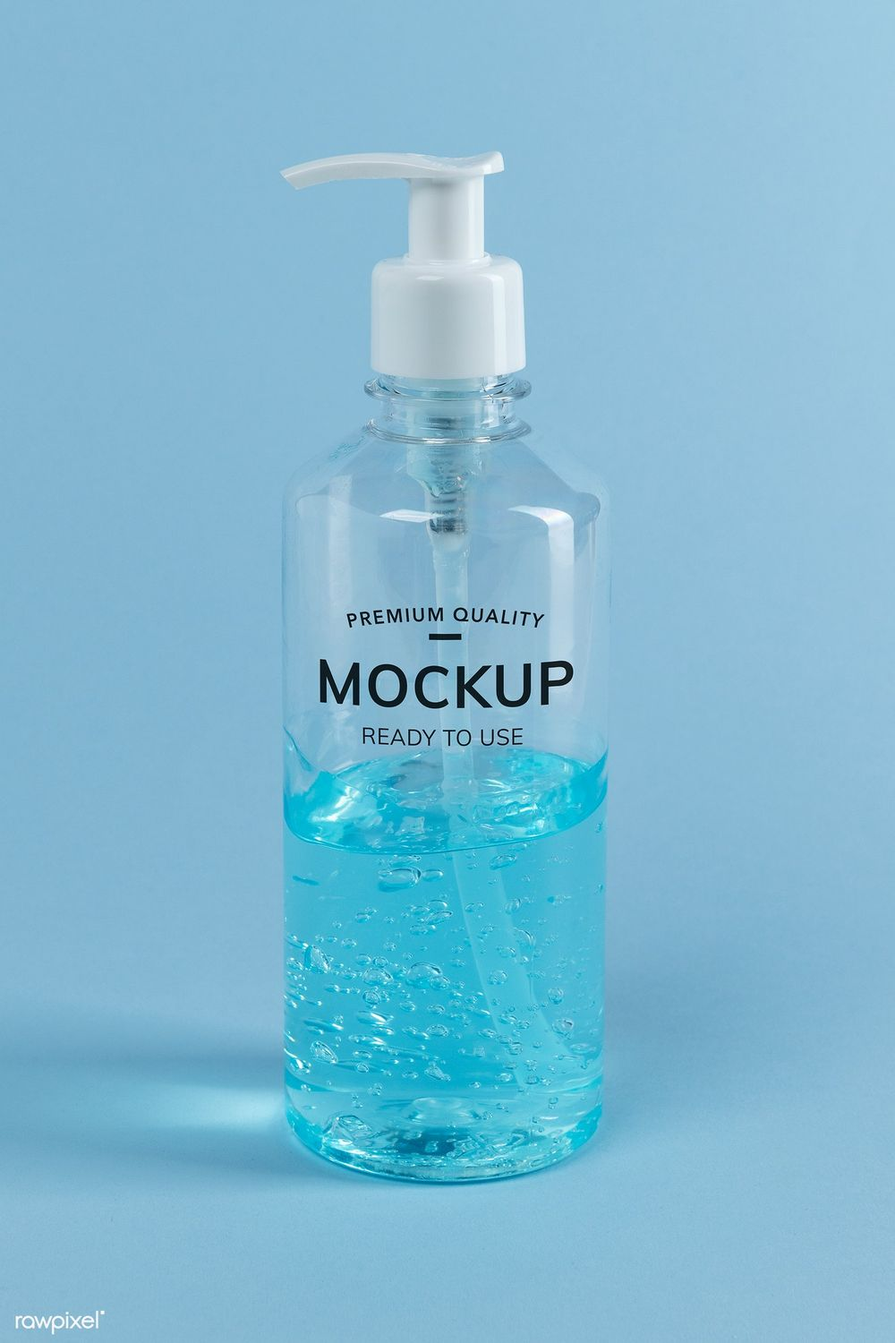Medicine: (228, 125, 712, 1204)
